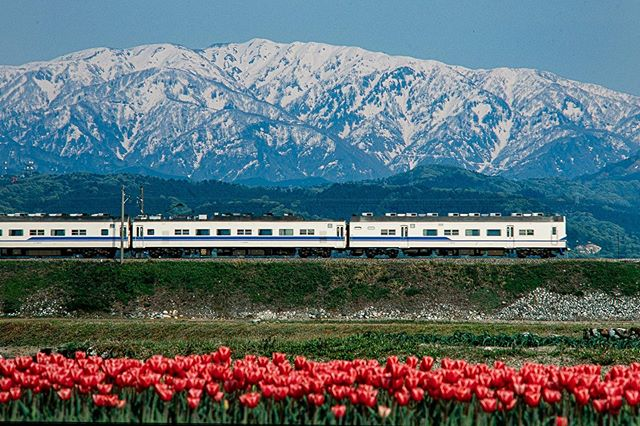flowers: (1, 346, 640, 426)
mountain: (27, 33, 623, 122)
train: (1, 210, 570, 262)
